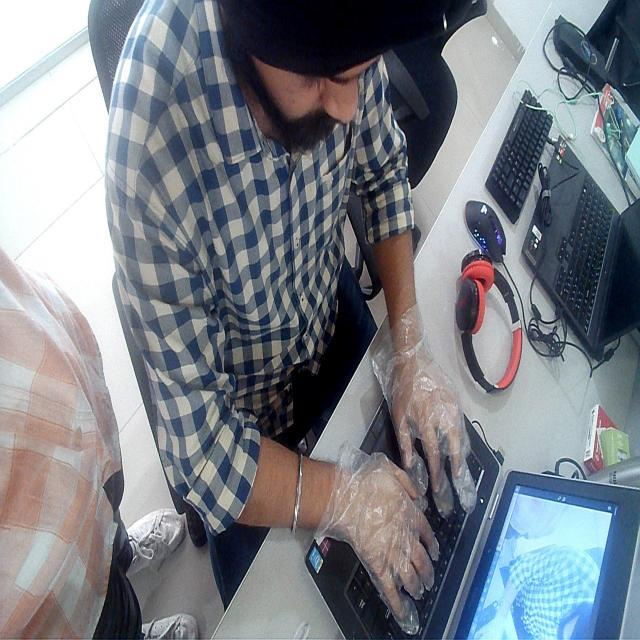with_gloves: (314, 442, 442, 621)
